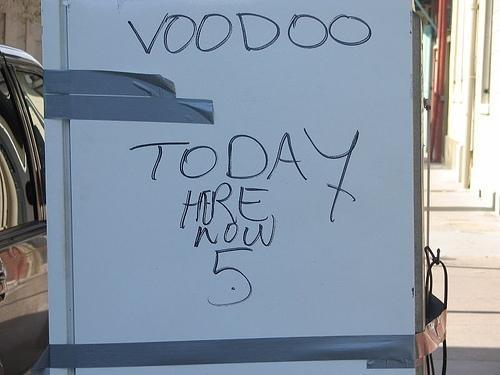car: (0, 44, 50, 375)
